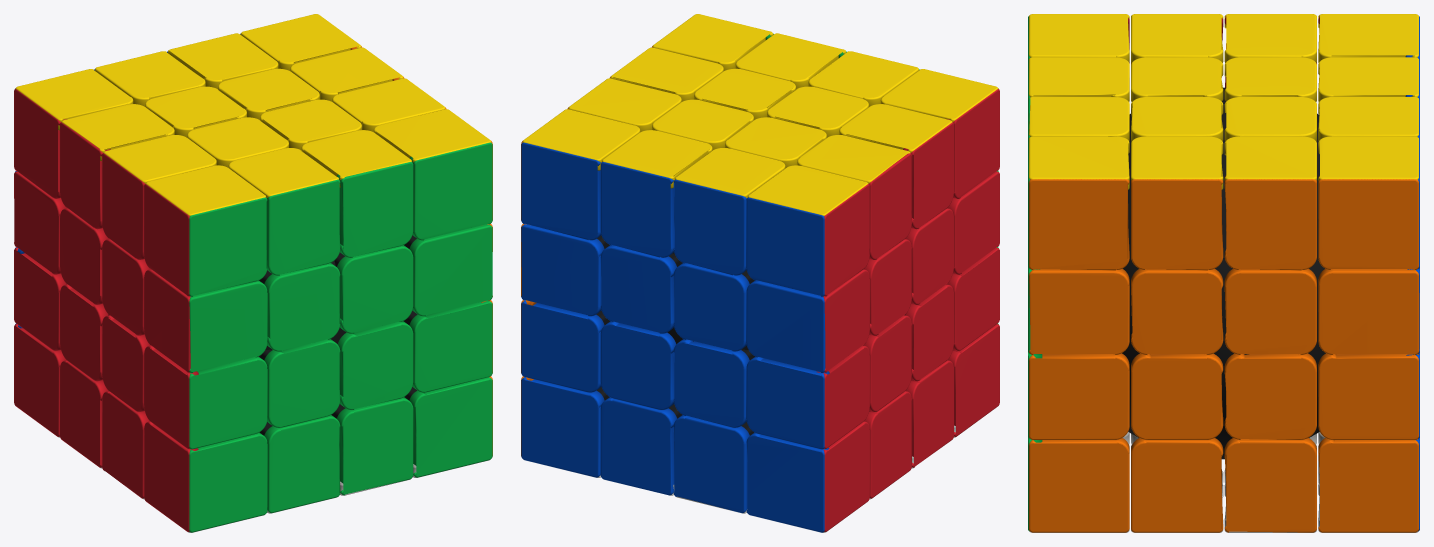
3 renders of one model, left to right at view 1: azimuth 30°, elevation 25°; view 2: azimuth 150°, elevation 25°; view 3: azimuth 270°, elevation 25°, orthographic. The views are drawn at different scales.
Visible parts, largest first — view 1: piece_-1.5,1.5,1.5, piece_-1.5,-1.5,1.5, piece_1.5,1.5,1.5, piece_-1.5,-0.5,1.5, piece_-1.5,0.5,1.5, piece_0.5,1.5,1.5, piece_-0.5,1.5,1.5, piece_-1.5,1.5,-1.5, piece_1.5,-1.5,1.5, piece_-1.5,1.5,-0.5, piece_-1.5,1.5,0.5, piece_0.5,-1.5,1.5 (+25 smaller); view 2: piece_-1.5,1.5,-1.5, piece_-1.5,-1.5,-1.5, piece_1.5,1.5,-1.5, piece_-1.5,-0.5,-1.5, piece_-1.5,0.5,-1.5, piece_0.5,1.5,-1.5, piece_-0.5,1.5,-1.5, piece_-1.5,1.5,1.5, piece_1.5,-1.5,-1.5, piece_-1.5,1.5,0.5, piece_-1.5,1.5,-0.5, piece_0.5,-1.5,-1.5 (+25 smaller); view 3: piece_1.5,1.5,1.5, piece_1.5,1.5,-1.5, piece_1.5,1.5,0.5, piece_1.5,1.5,-0.5, piece_1.5,-1.5,1.5, piece_1.5,-1.5,-1.5, piece_1.5,-0.5,1.5, piece_1.5,-0.5,-1.5, piece_1.5,0.5,-1.5, piece_1.5,-1.5,-0.5, piece_1.5,0.5,1.5, piece_1.5,-1.5,0.5 (+17 smaller).
Boxes of the visible parts, x1,y1,x2,y2 form: piece_-1.5,1.5,1.5: (144, 165, 267, 296); piece_-1.5,-1.5,1.5: (144, 421, 267, 532); piece_1.5,1.5,1.5: (373, 109, 492, 240); piece_-1.5,-0.5,1.5: (144, 345, 267, 449); piece_-1.5,0.5,1.5: (144, 269, 267, 372); piece_0.5,1.5,1.5: (301, 130, 413, 257); piece_-0.5,1.5,1.5: (228, 148, 340, 275); piece_-1.5,1.5,-1.5: (14, 69, 133, 198); piece_1.5,-1.5,1.5: (404, 376, 492, 477); piece_-1.5,1.5,-0.5: (60, 104, 174, 229); piece_-1.5,1.5,0.5: (102, 135, 216, 259); piece_0.5,-1.5,1.5: (331, 397, 413, 495); piece_-1.5,1.5,-1.5: (746, 165, 869, 296); piece_-1.5,-1.5,-1.5: (746, 421, 869, 532); piece_1.5,1.5,-1.5: (521, 109, 640, 240); piece_-1.5,-0.5,-1.5: (746, 345, 869, 449); piece_-1.5,0.5,-1.5: (746, 269, 869, 372); piece_0.5,1.5,-1.5: (600, 130, 712, 257); piece_-0.5,1.5,-1.5: (673, 148, 785, 275); piece_-1.5,1.5,1.5: (880, 69, 999, 198); piece_1.5,-1.5,-1.5: (521, 376, 609, 477); piece_-1.5,1.5,0.5: (839, 104, 953, 229); piece_-1.5,1.5,-0.5: (797, 135, 911, 259); piece_0.5,-1.5,-1.5: (600, 397, 682, 495); piece_1.5,1.5,1.5: (1028, 136, 1129, 270); piece_1.5,1.5,-1.5: (1318, 136, 1419, 269); piece_1.5,1.5,0.5: (1131, 136, 1223, 270); piece_1.5,1.5,-0.5: (1224, 136, 1316, 270); piece_1.5,-1.5,1.5: (1028, 437, 1129, 532); piece_1.5,-1.5,-1.5: (1318, 437, 1419, 532); piece_1.5,-0.5,1.5: (1028, 352, 1129, 439); piece_1.5,-0.5,-1.5: (1318, 352, 1419, 439); piece_1.5,0.5,-1.5: (1318, 267, 1419, 355); piece_1.5,-1.5,-0.5: (1224, 437, 1316, 532); piece_1.5,0.5,1.5: (1028, 267, 1129, 354); piece_1.5,-1.5,0.5: (1131, 437, 1223, 532).
Size of the model in its own units: 2 by 2 by 2.
